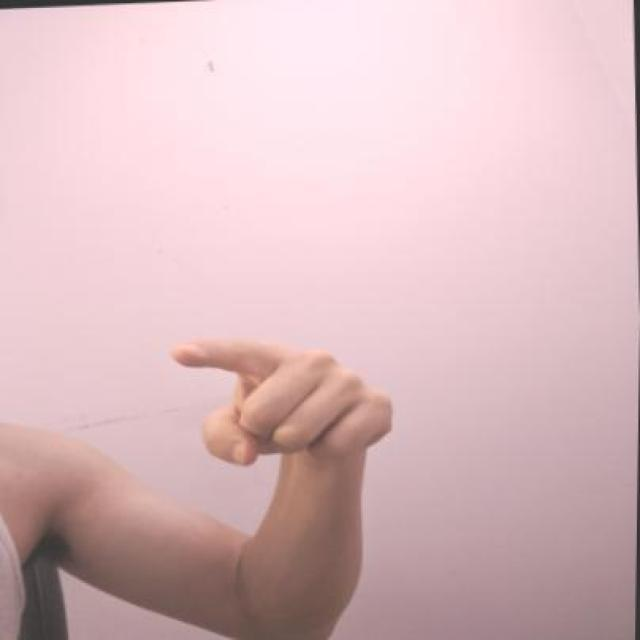Z: (148, 304, 411, 487)
